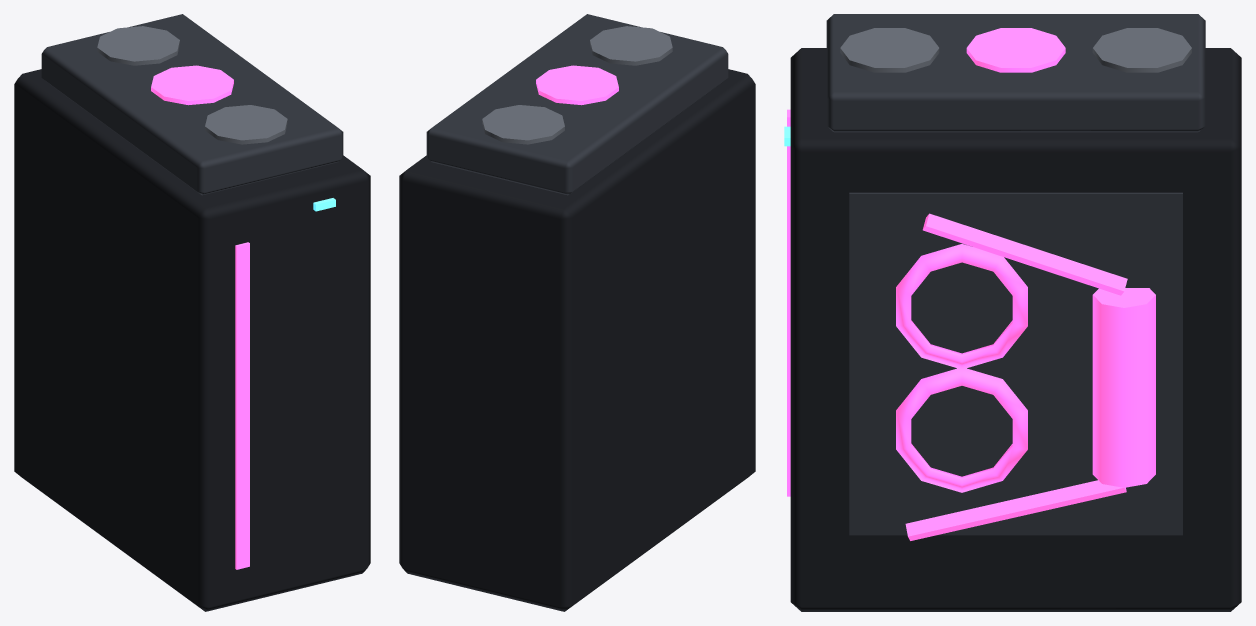
Rendered from station_processing_ausstattung_1_1.glb.
3 renders of one model, left to right at view 1: azimuth 30°, elevation 25°; view 2: azimuth 150°, elevation 25°; view 3: azimuth 270°, elevation 25°, orthographic. The views are drawn at different scales.
Parts seen in each view (by area): view 1: station_processing_ausstattung_1_1; view 2: station_processing_ausstattung_1_1; view 3: station_processing_ausstattung_1_1.
Part boxes in pixels (box(x1,y1,x2,y2)): station_processing_ausstattung_1_1: box(14, 14, 370, 611); station_processing_ausstattung_1_1: box(399, 14, 755, 611); station_processing_ausstattung_1_1: box(784, 14, 1241, 611).
Size of the model in its own units: 0.317 by 0.641 by 0.507.
